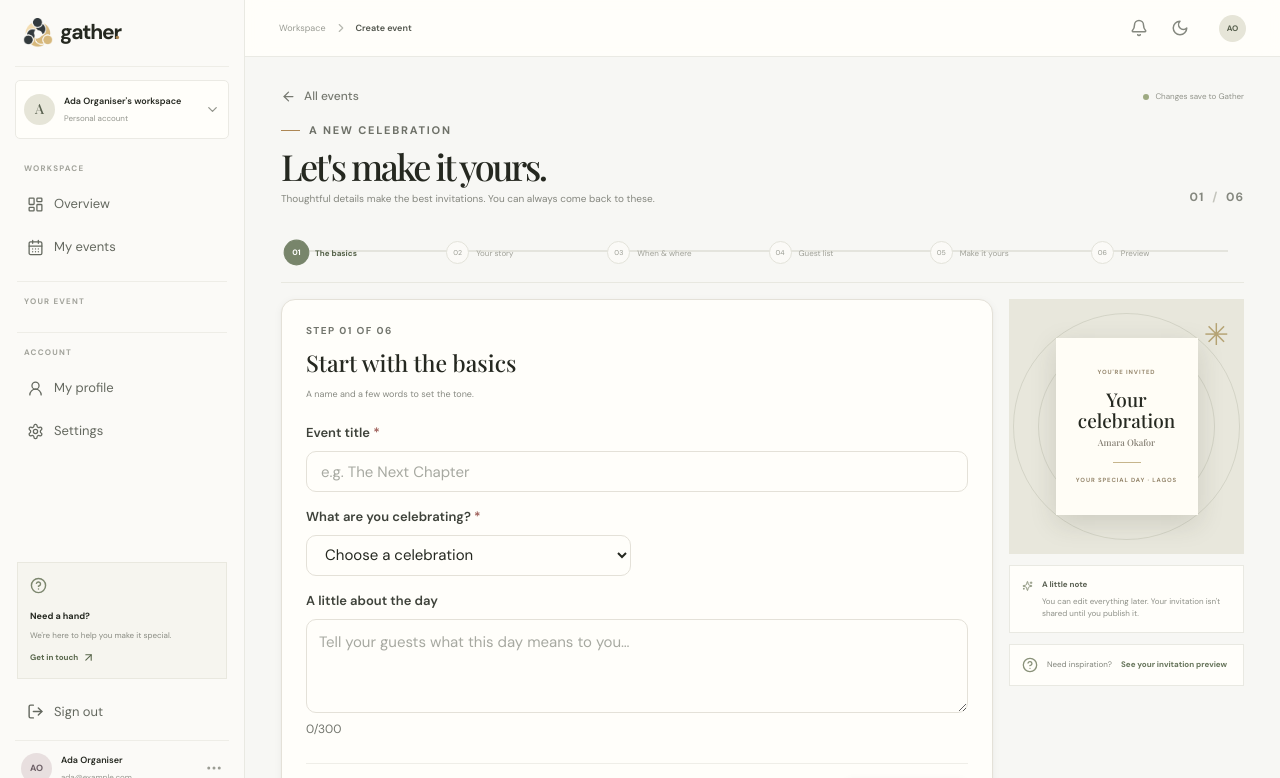
Test: EventWizard › shows an error when saving fails
Expected: the heading "Start with the basics" is shown, [306,347,516,378]
Type "Graduation 2026" into the field labelled "Event title *" at (637, 472), box [306,451,968,492]
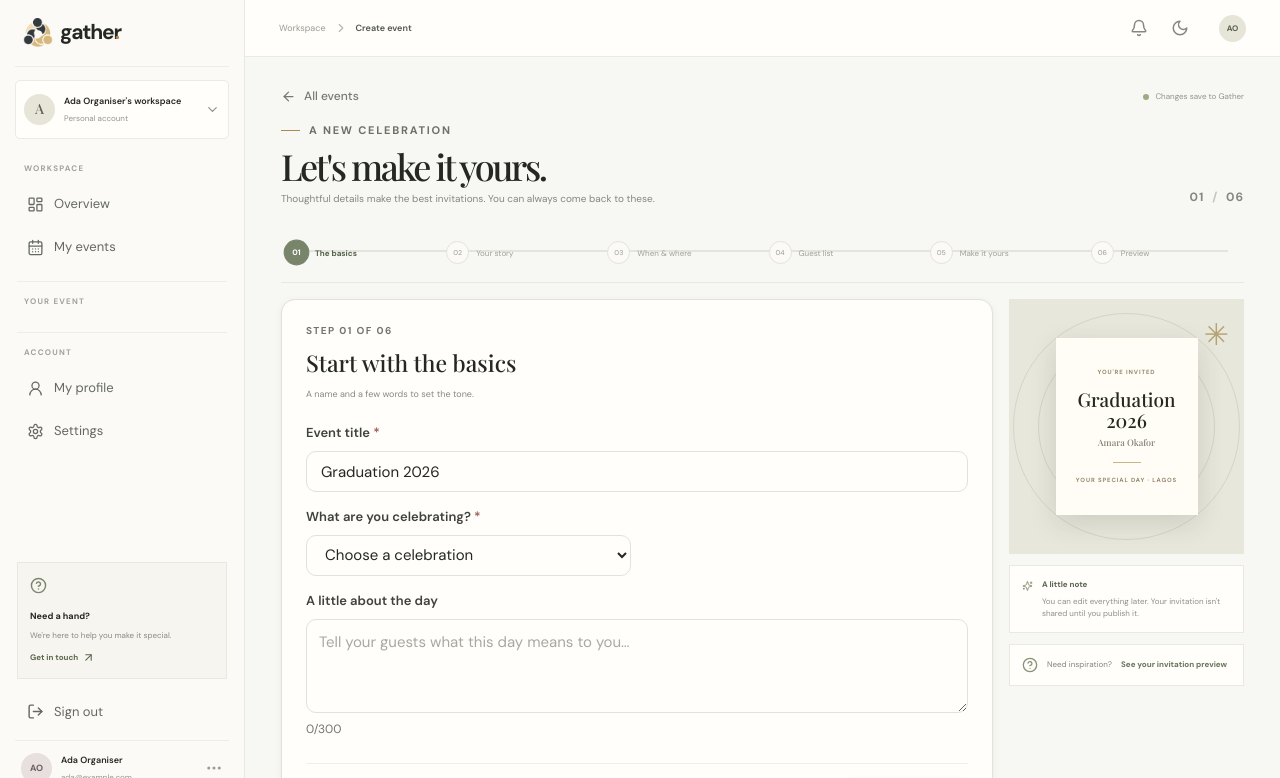
Select "Graduation Ceremony" in the dropdown labelled "What are you celebrating? *" at (468, 556), box [306,535,631,576]
(page scrolled)
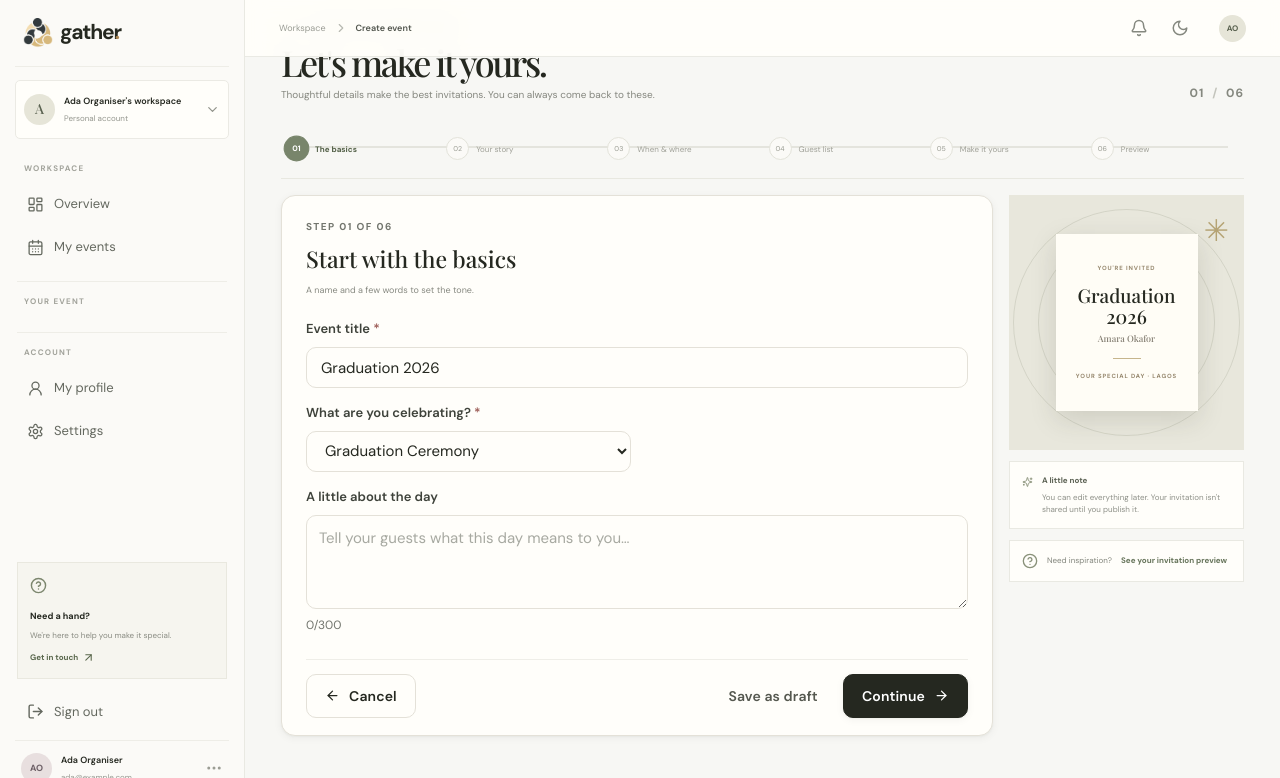
Click the button "Save as draft" at (773, 696), box [709,674,837,718]
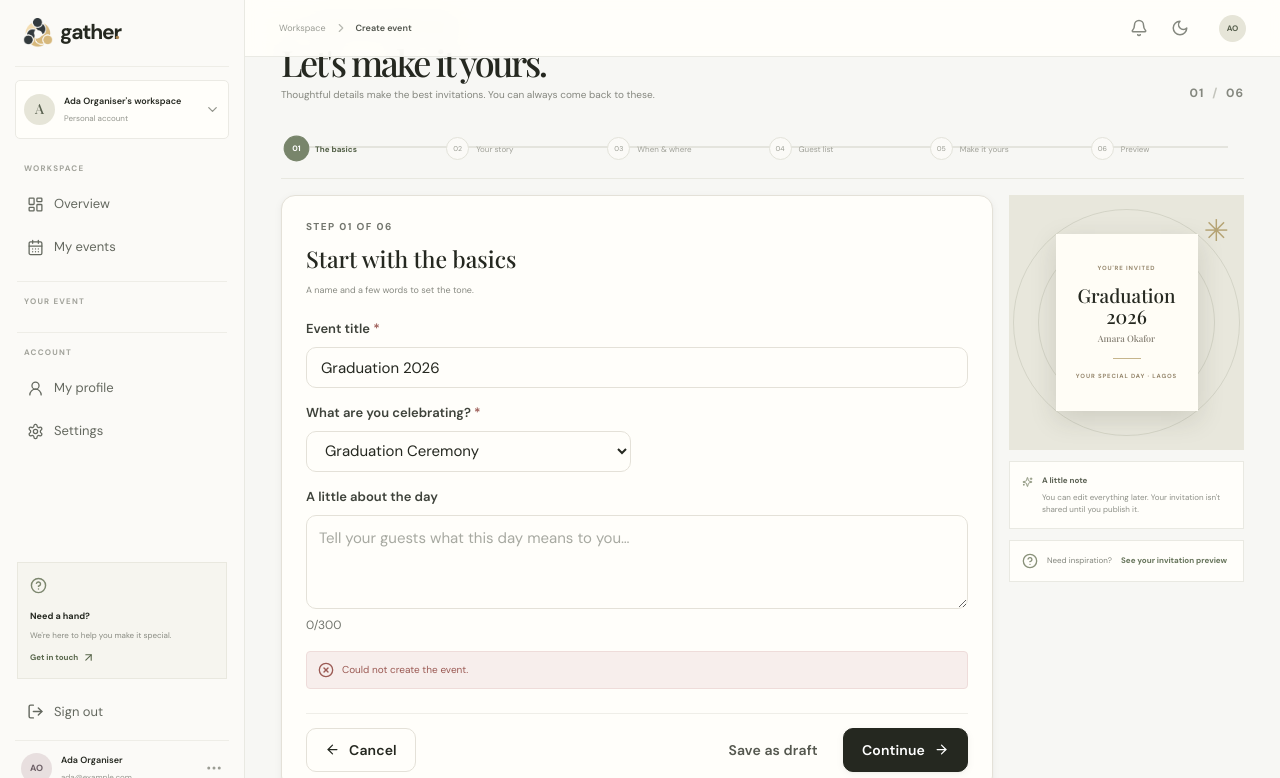
Now the text "Could not create the event." is shown, box [306,651,968,689]
